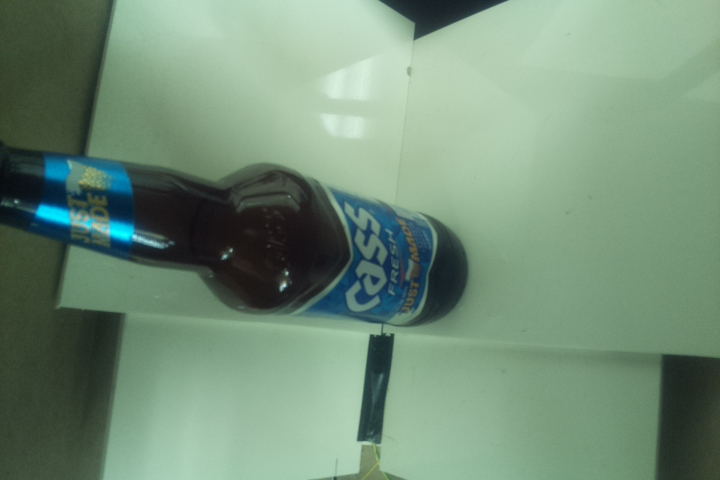makju: (1, 137, 471, 330)
